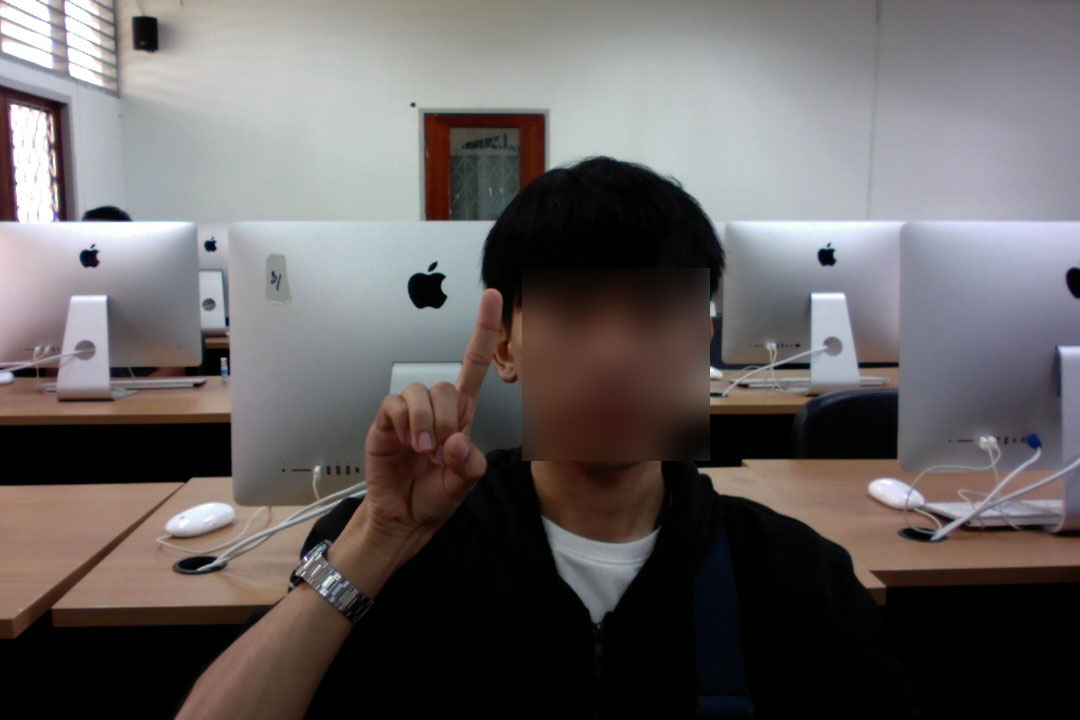dor: (332, 285, 510, 527)
